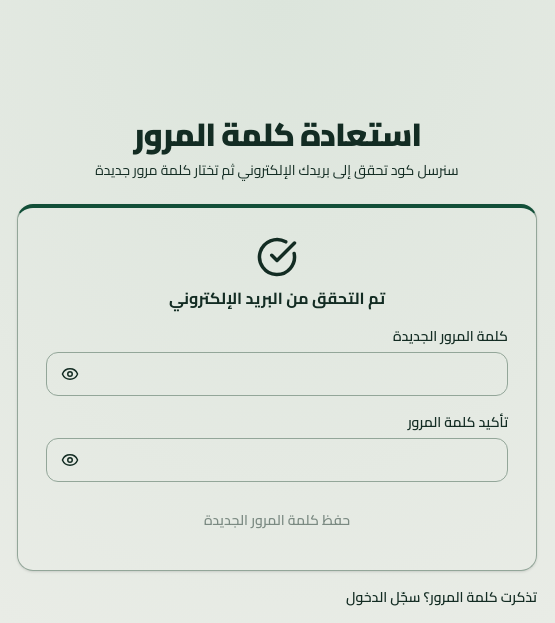
Scenario: password recovery page › sets a new password after the phone is verified
Expected: the text "تم التحقق من البريد الإلكتروني" is shown, [169,283,385,313]
Type "NewPassword123!" into the password field labelled "كلمة المرور الجديدة" at (277, 374), box [46,352,508,396]
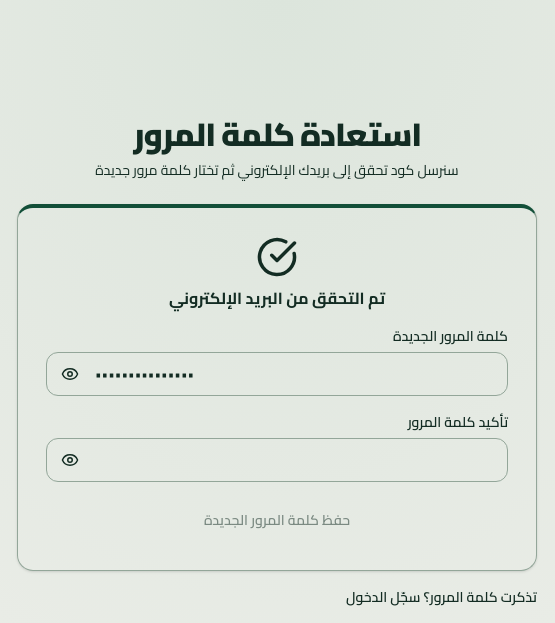
Type "NewPassword123!" into the password field labelled "تأكيد كلمة المرور" at (277, 460), box [46,438,508,482]
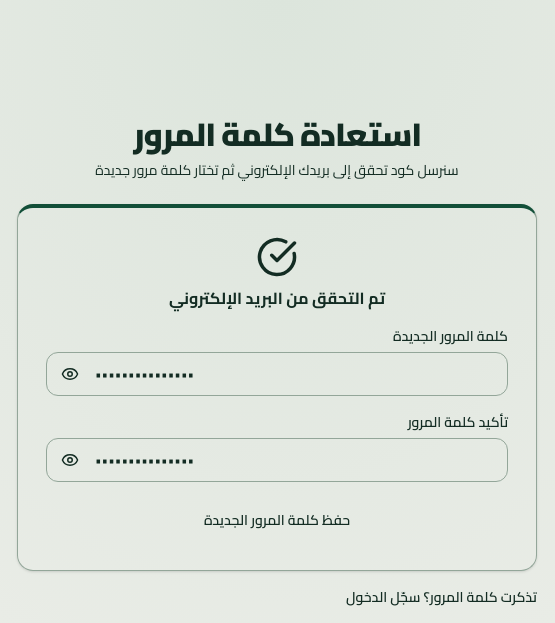
Click the button "حفظ كلمة المرور الجديدة" at (277, 520), box [46,498,508,542]
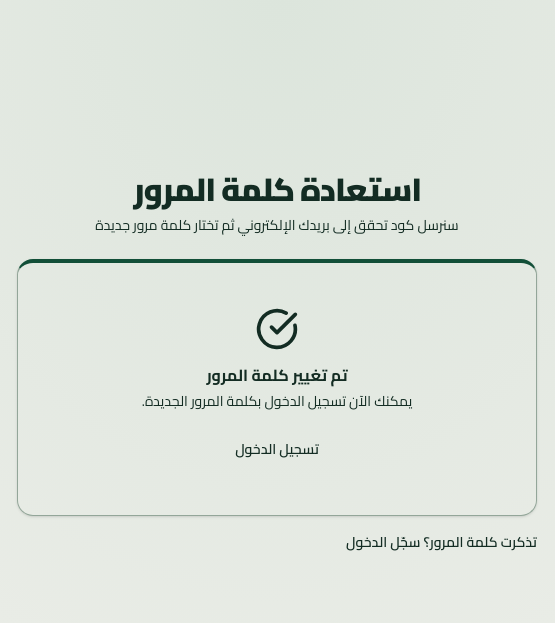
Expected: the text "تم تغيير كلمة المرور" is shown, [206,360,348,390]
